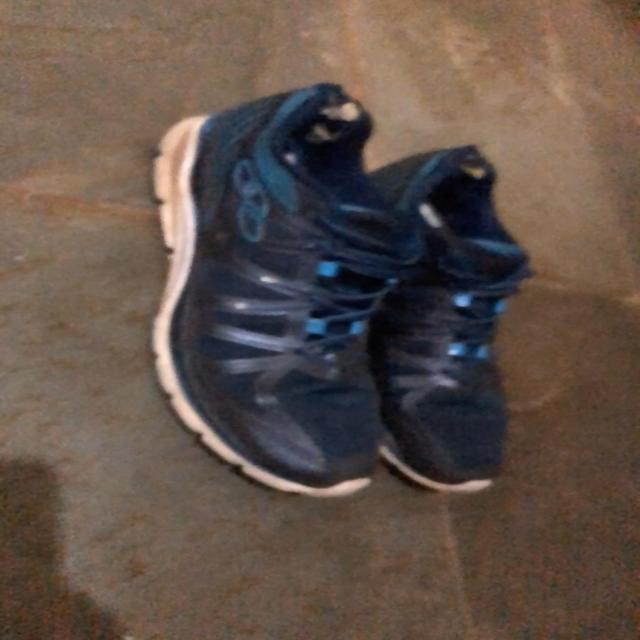shoe: (150, 69, 375, 494), (375, 137, 524, 493)
